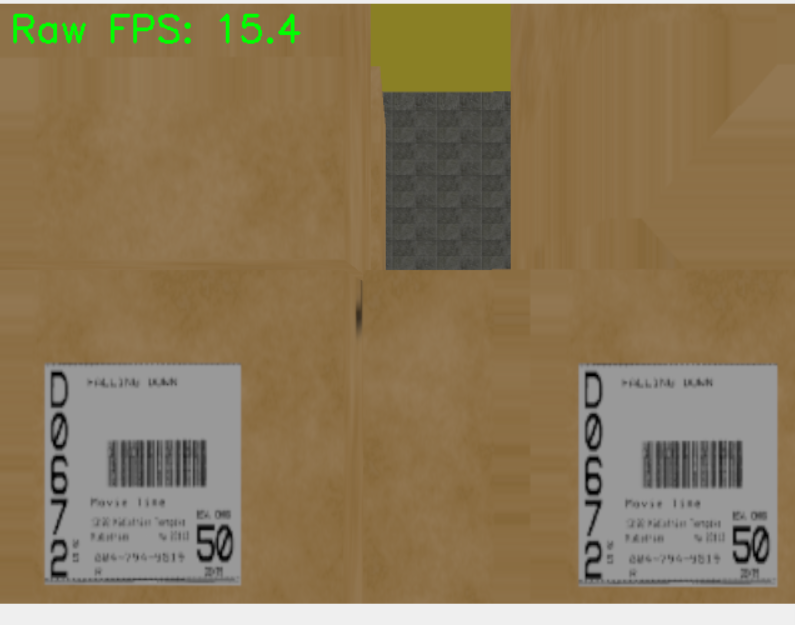barcode: (577, 361, 780, 588), (43, 362, 243, 586)
